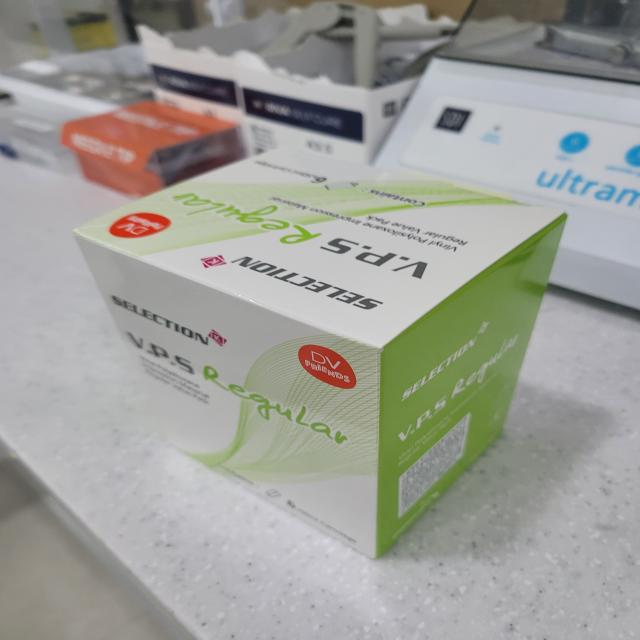impression: (57, 133, 592, 577)
